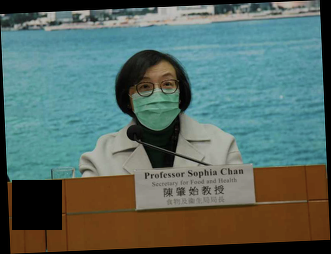with_mask: (128, 71, 182, 132)
